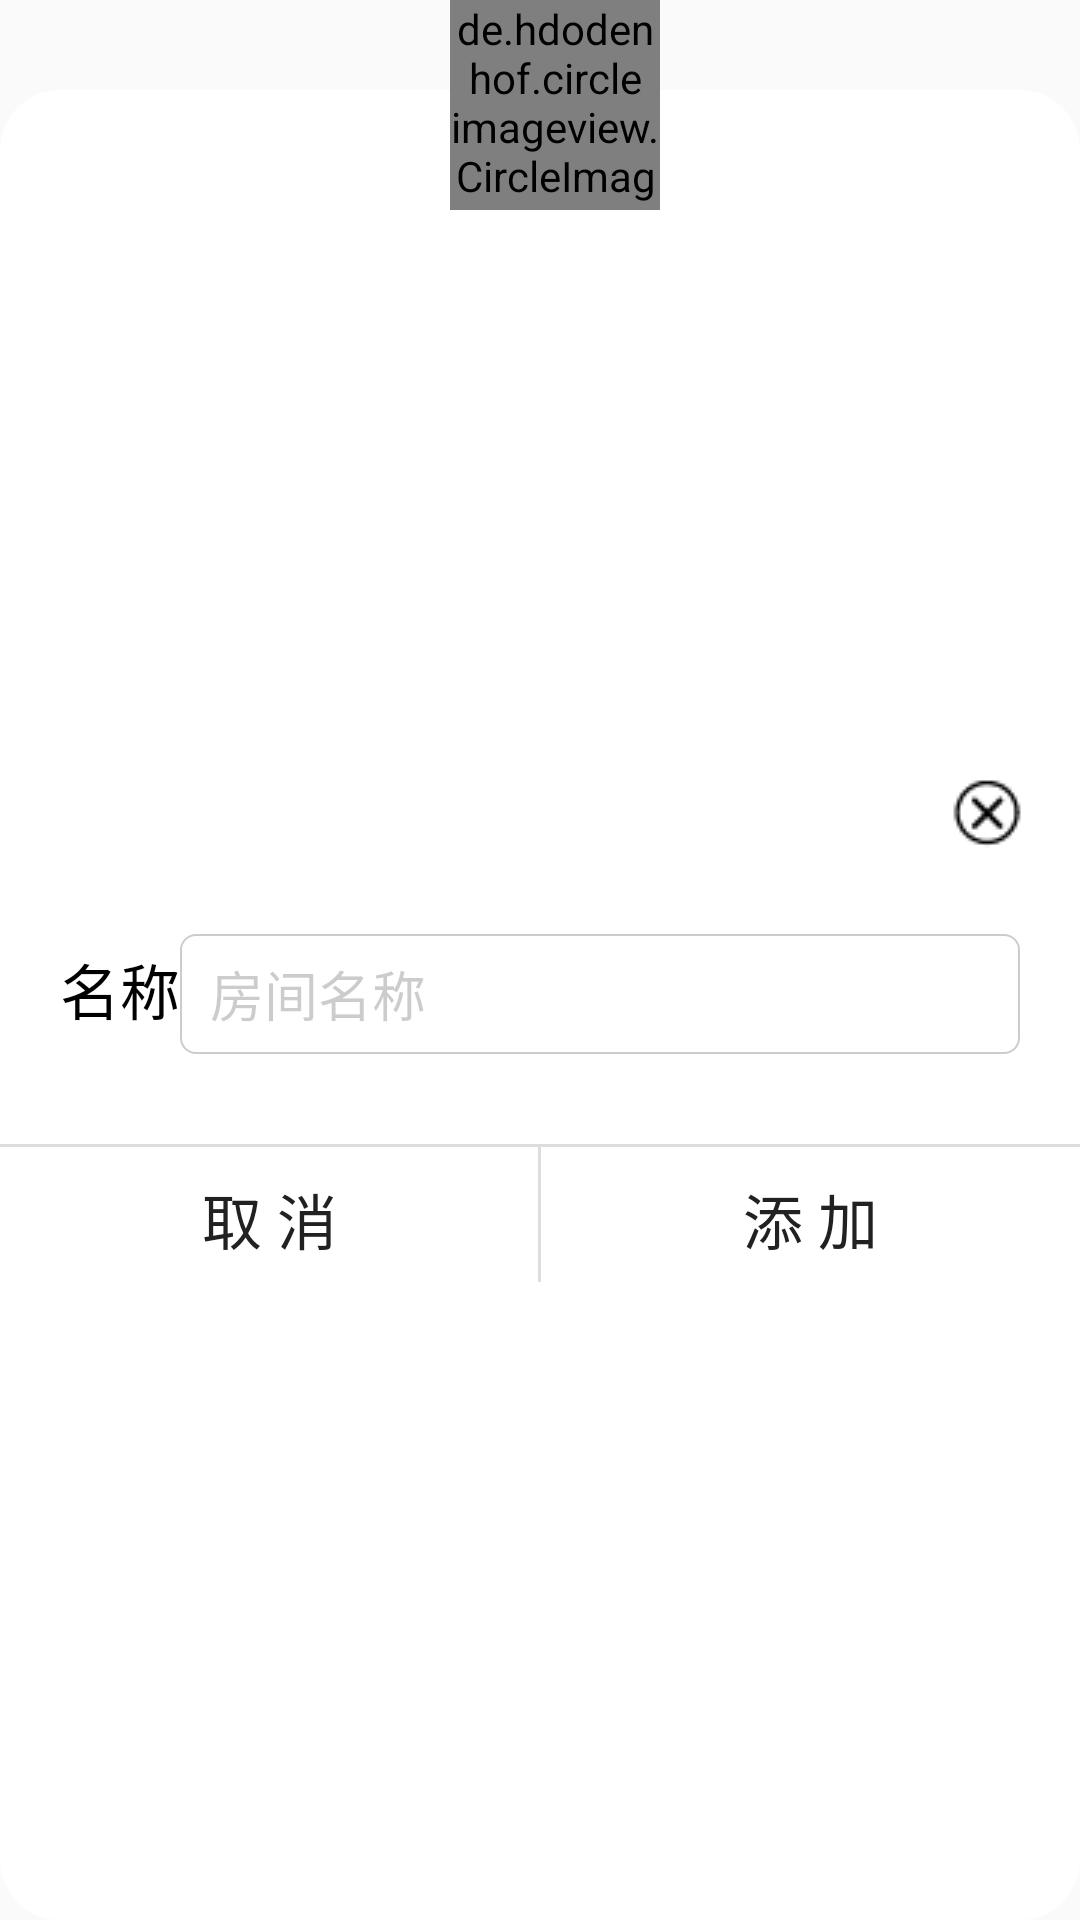

Named icons in this screenshot (1080px×1920px) and their bounding boxes, (x1, y1, x2, y2):
cancel: (953, 780, 1021, 845)
